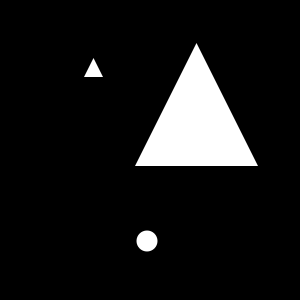rectangle: (136, 230, 158, 252)
triangle: (135, 43, 258, 166), (84, 58, 103, 77)
